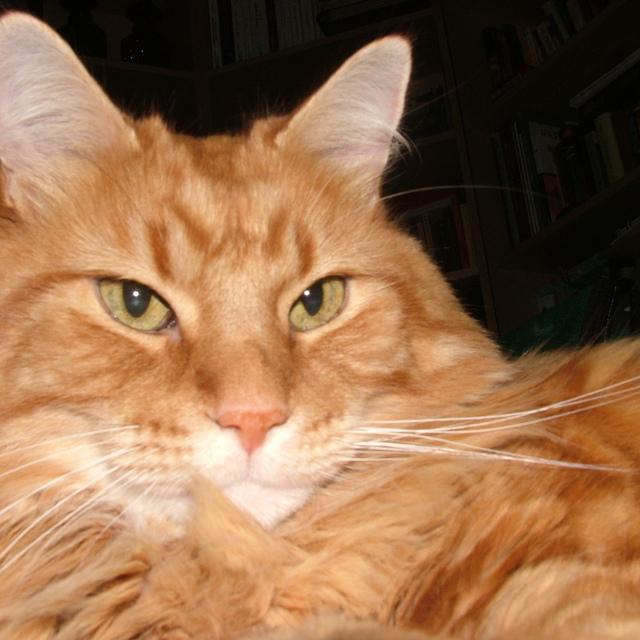animals: (9, 13, 401, 450)
